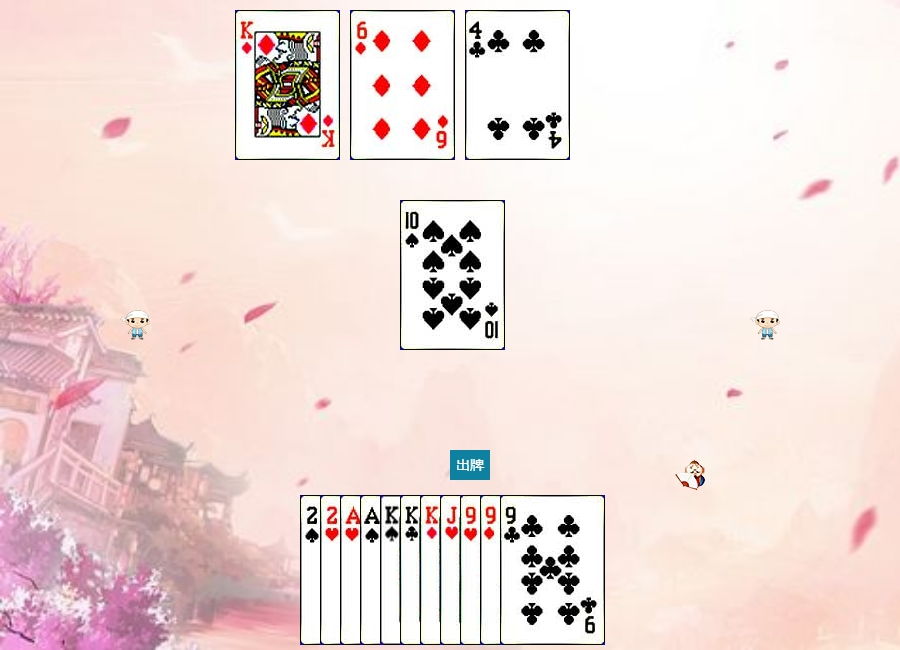10~4: (400, 200, 505, 350)
11~3: (440, 495, 545, 645)
13~1: (235, 10, 340, 160), (420, 495, 525, 645)
13~2: (400, 495, 505, 645)
13~4: (380, 495, 485, 645)
14~3: (340, 495, 445, 645)
14~4: (360, 495, 465, 645)
15~3: (320, 495, 425, 645)
15~4: (300, 495, 405, 645)
4~2: (465, 10, 570, 160)
6~1: (350, 10, 455, 160)
9~1: (480, 495, 585, 645)
9~2: (500, 495, 605, 645)
9~3: (460, 495, 565, 645)
